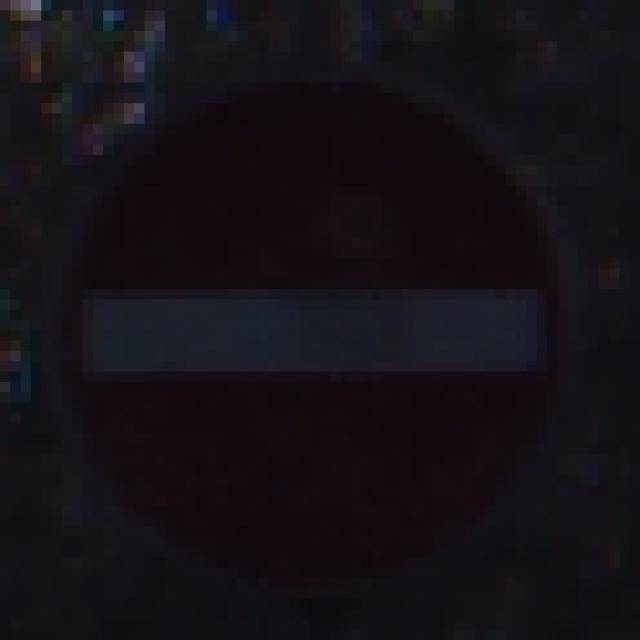No Entry: (63, 63, 589, 589)
